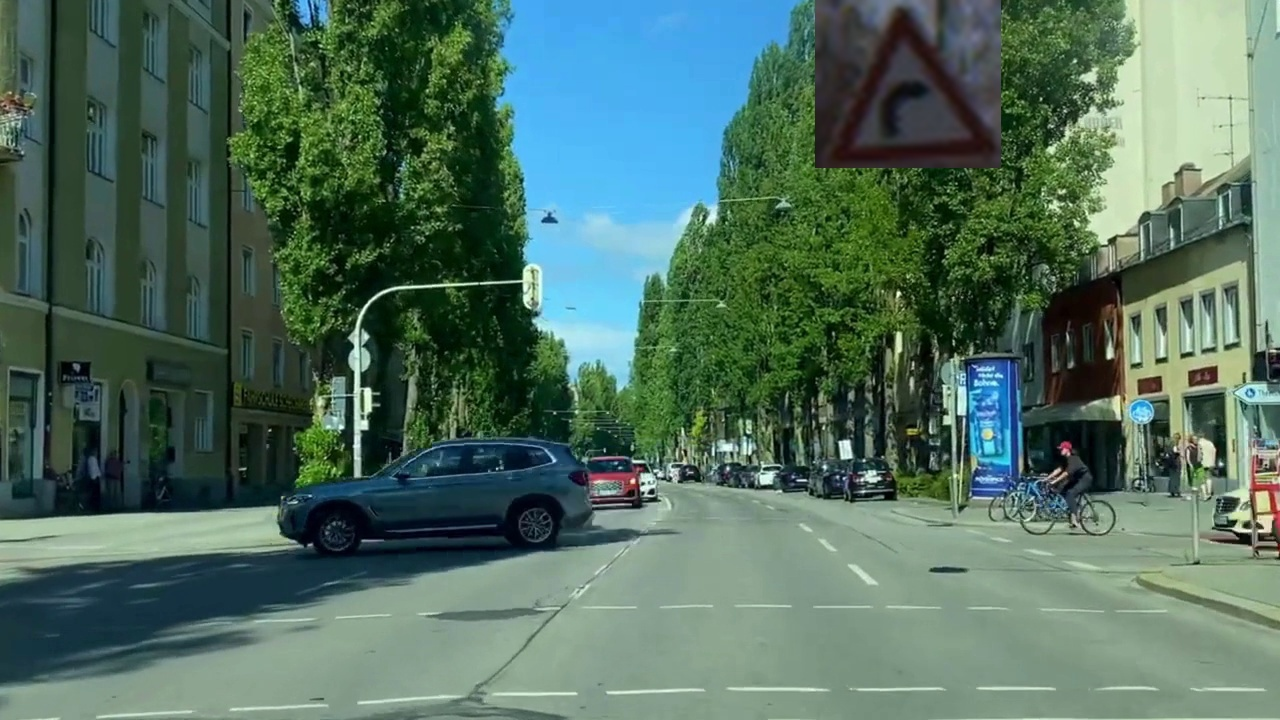Curve right: (815, 0, 1001, 168)
